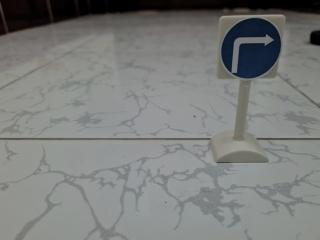right: (209, 7, 287, 89)
